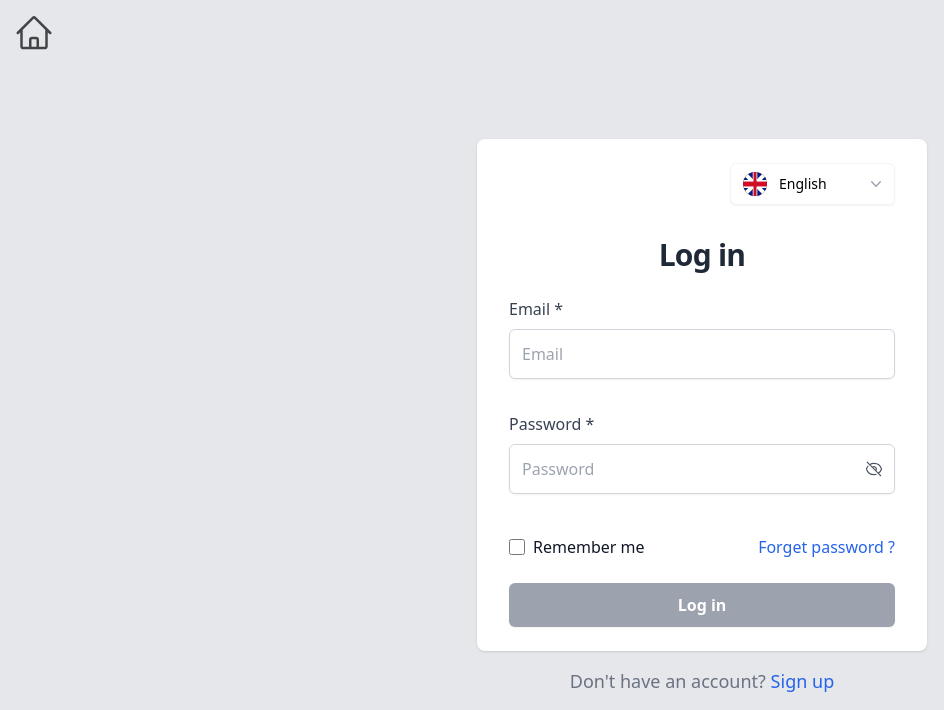
Test: Log in page › Should see validation messages when focus and blur inputs. Also validation messages should translate into Georgian
Focus the field with test id "email-input" at (702, 354), box x1=509 y1=329 x2=895 y2=379
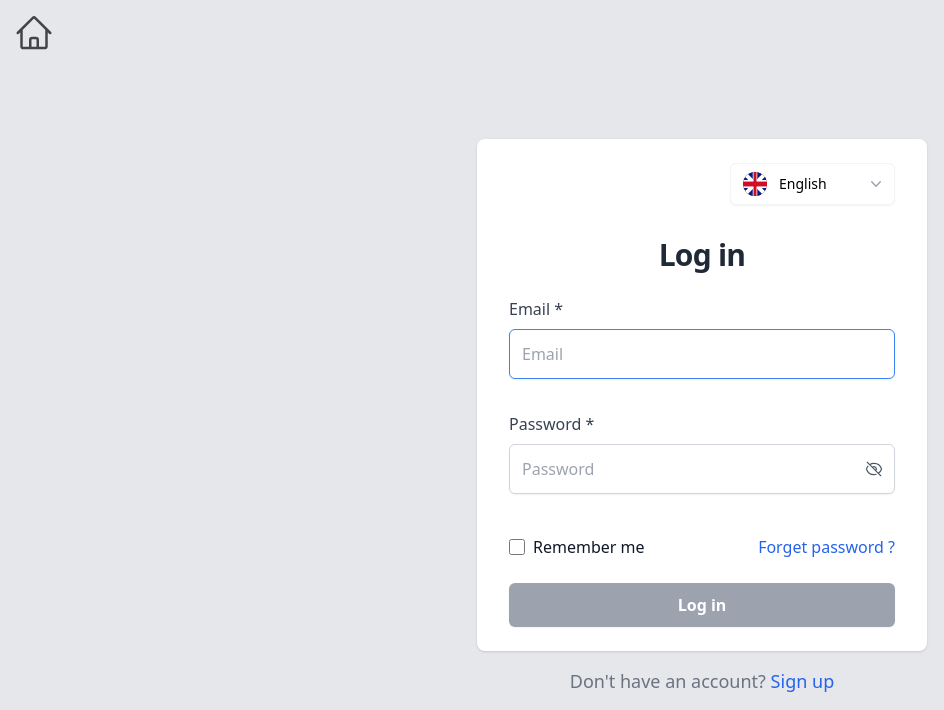
Leave the field with test id "email-input", box x1=509 y1=329 x2=895 y2=379
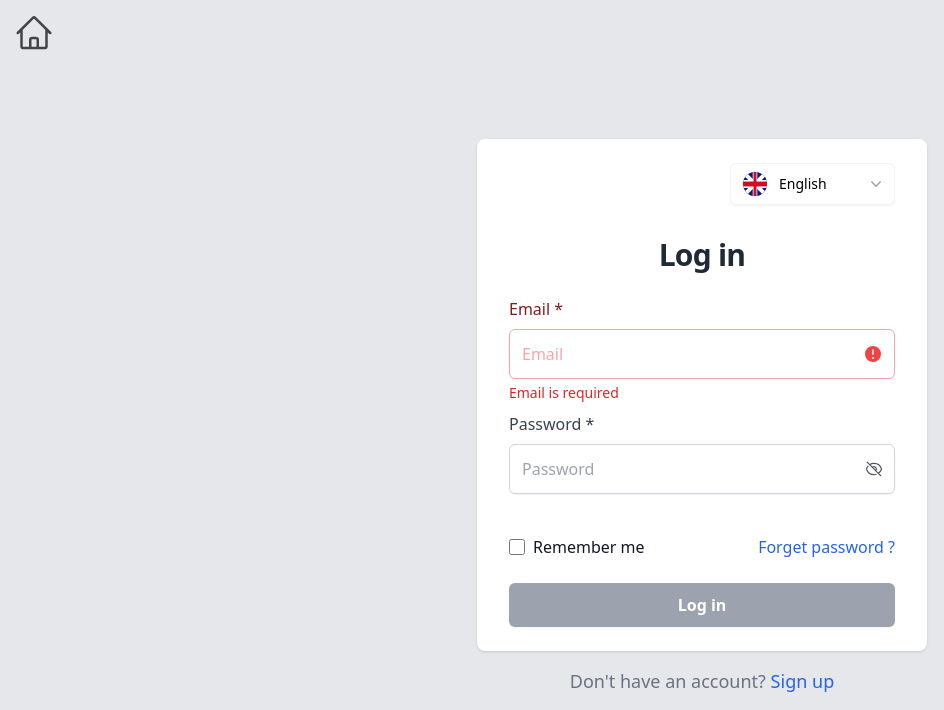
Check: the text with test id "email-validation" reads "Email is required", box x1=509 y1=383 x2=619 y2=402
Focus the password field with test id "password-input" at (702, 469), box x1=509 y1=444 x2=895 y2=494
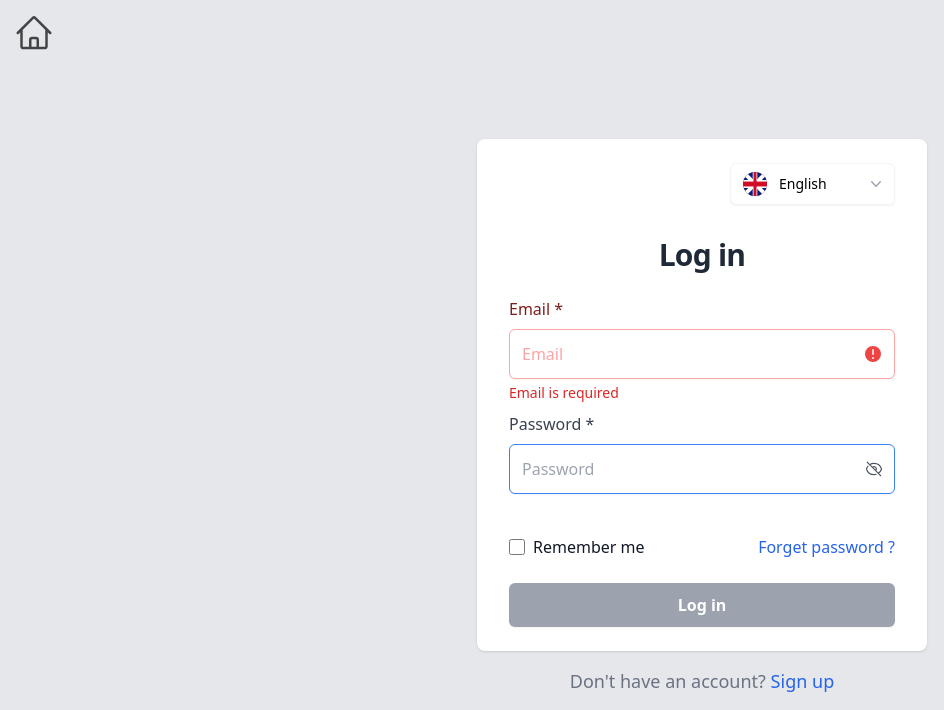
Leave the password field with test id "password-input", box x1=509 y1=444 x2=895 y2=494
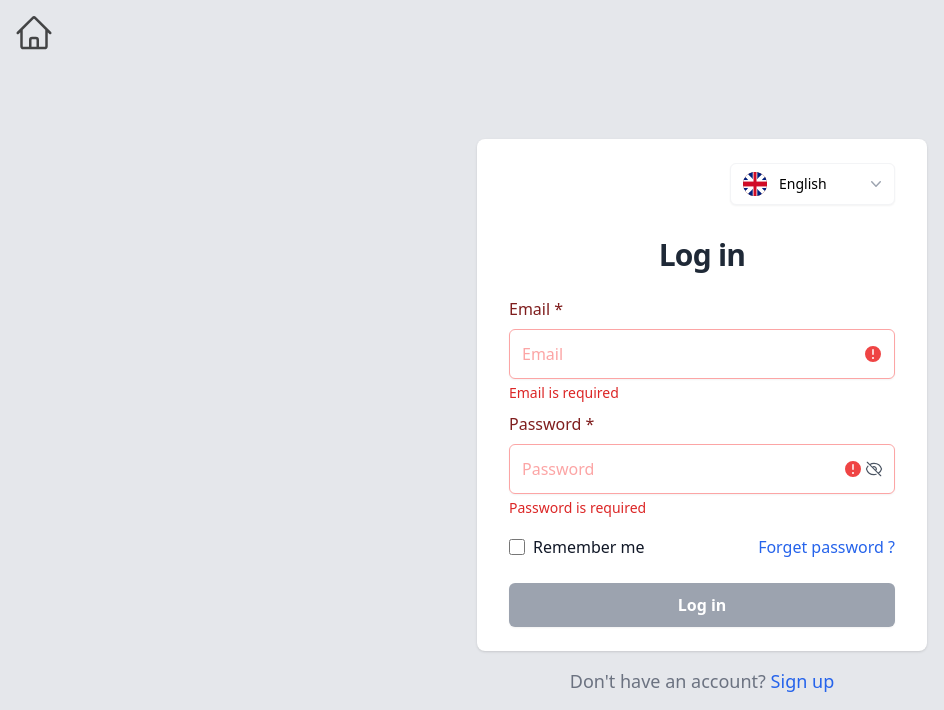
Check: the text with test id "password-validation" reads "Password is required", box x1=509 y1=498 x2=646 y2=517
Click the button with test id "language-selector" at (813, 184), box x1=730 y1=163 x2=895 y2=205
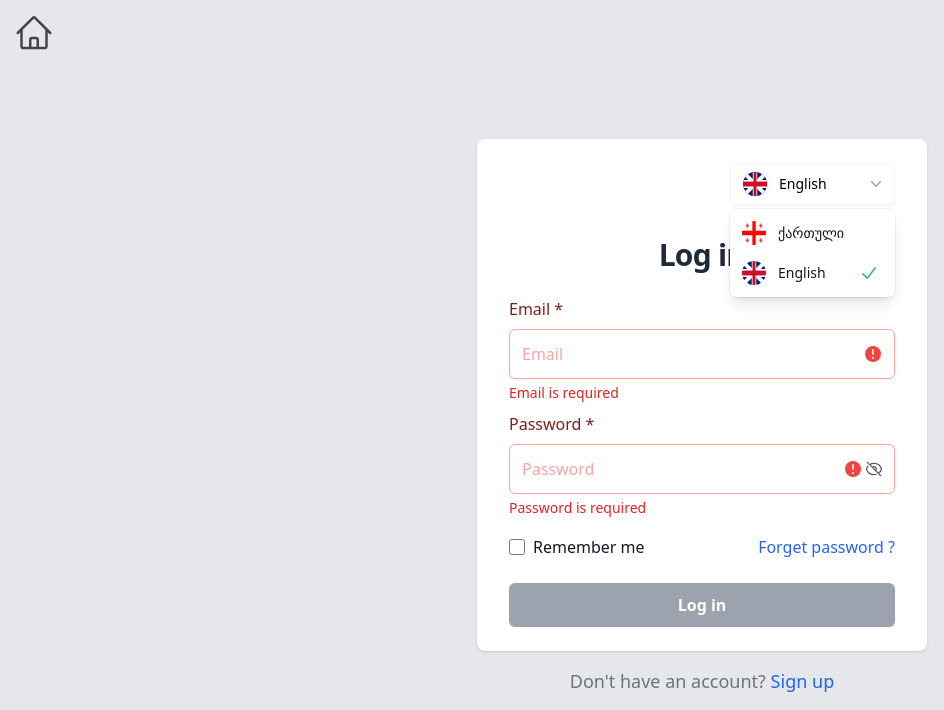
Click the option with test id "ka" at (793, 233), box x1=742 y1=221 x2=844 y2=245
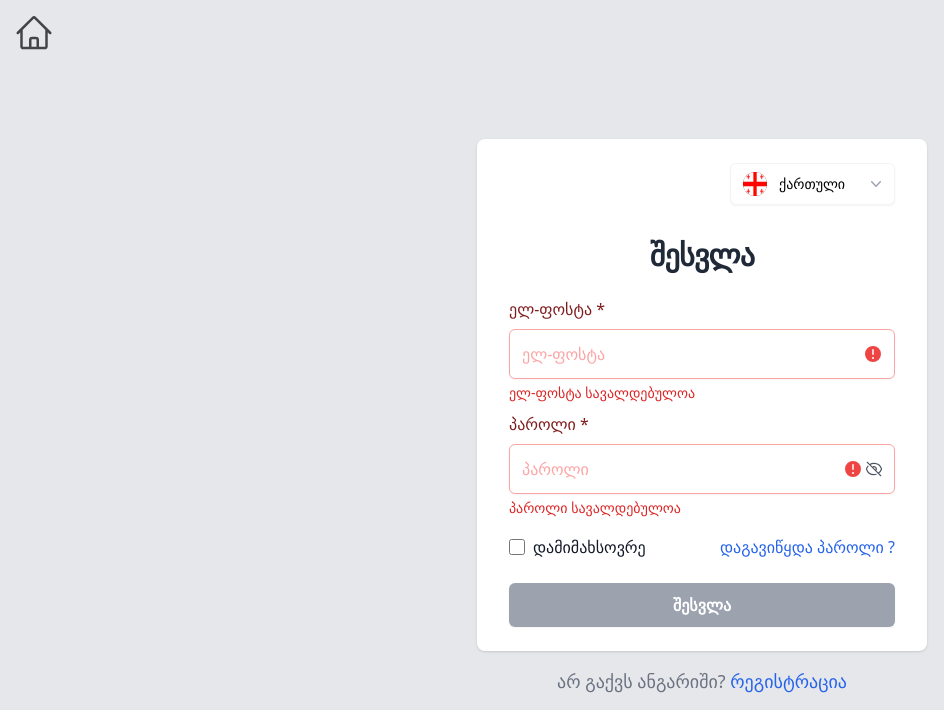
Check: the text with test id "email-validation" reads "ელ-ფოსტა სავალდებულოა", box x1=509 y1=383 x2=695 y2=402
Check: the text with test id "password-validation" reads "პაროლი სავალდებულოა", box x1=509 y1=498 x2=681 y2=517
